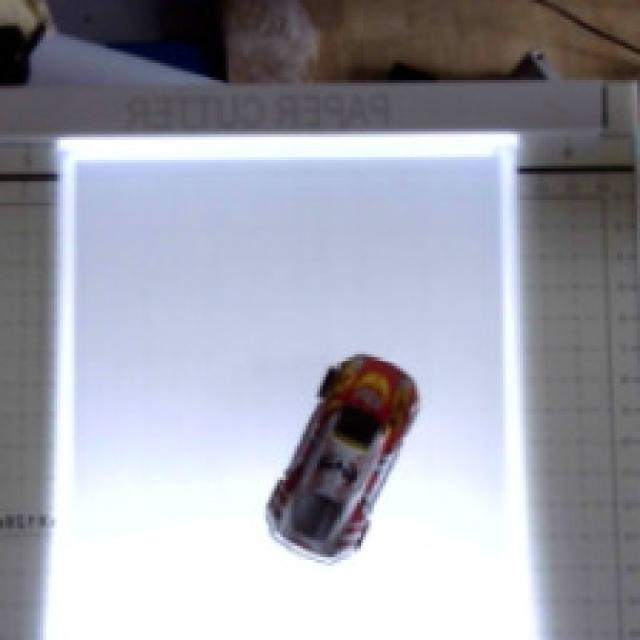Red Car: (229, 336, 457, 572)
